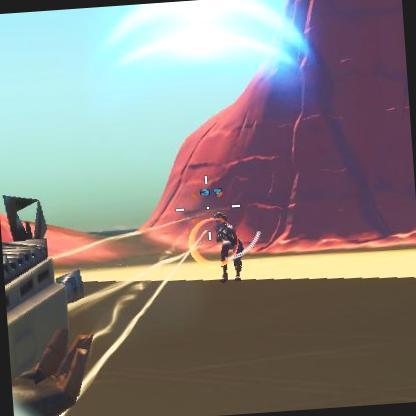person: (205, 215, 246, 274)
